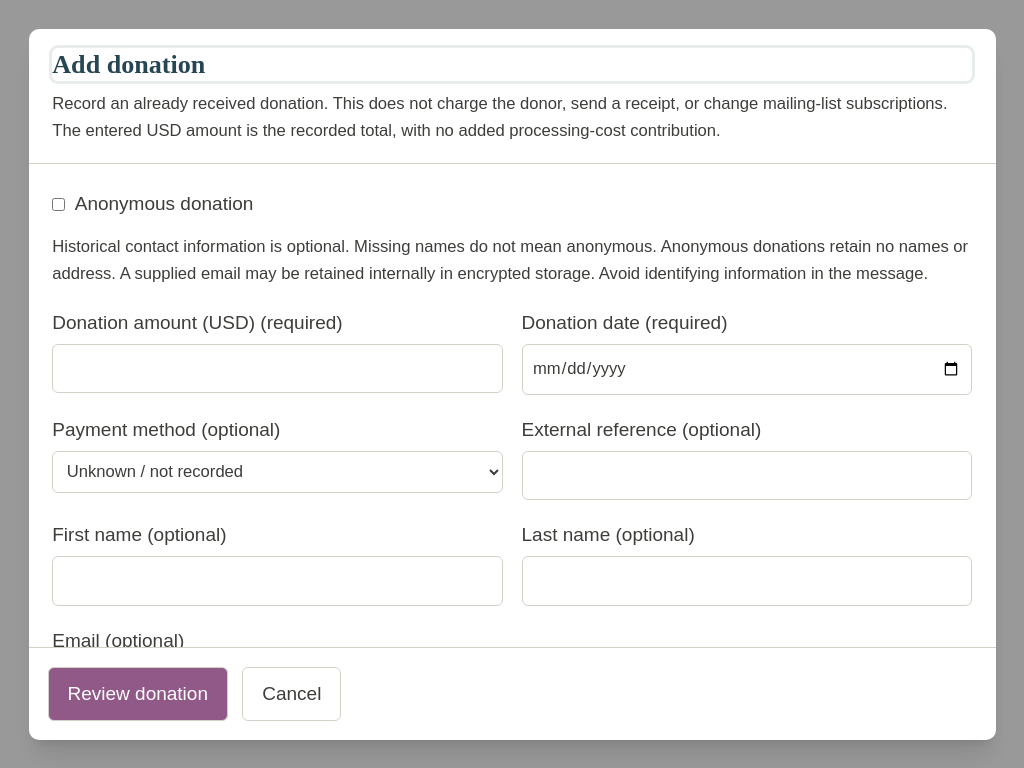
manual donation entry and review › reviews bank_transfer as a recorded method rather than an online charge
Type "35.00" into the field labelled "Donation amount (USD) (required)". click: (277, 368)
box: [52,344,503,393]
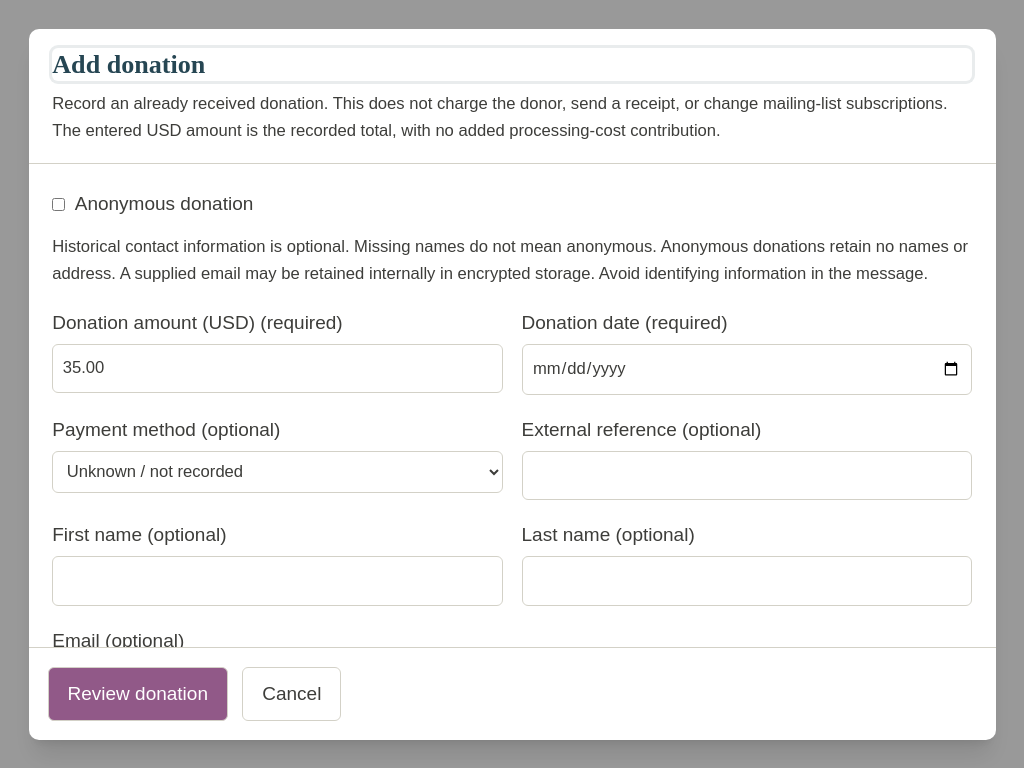
Type "1990-01-02" into the date field labelled "Donation date (required)". click: (747, 369)
box: [522,344,972,395]
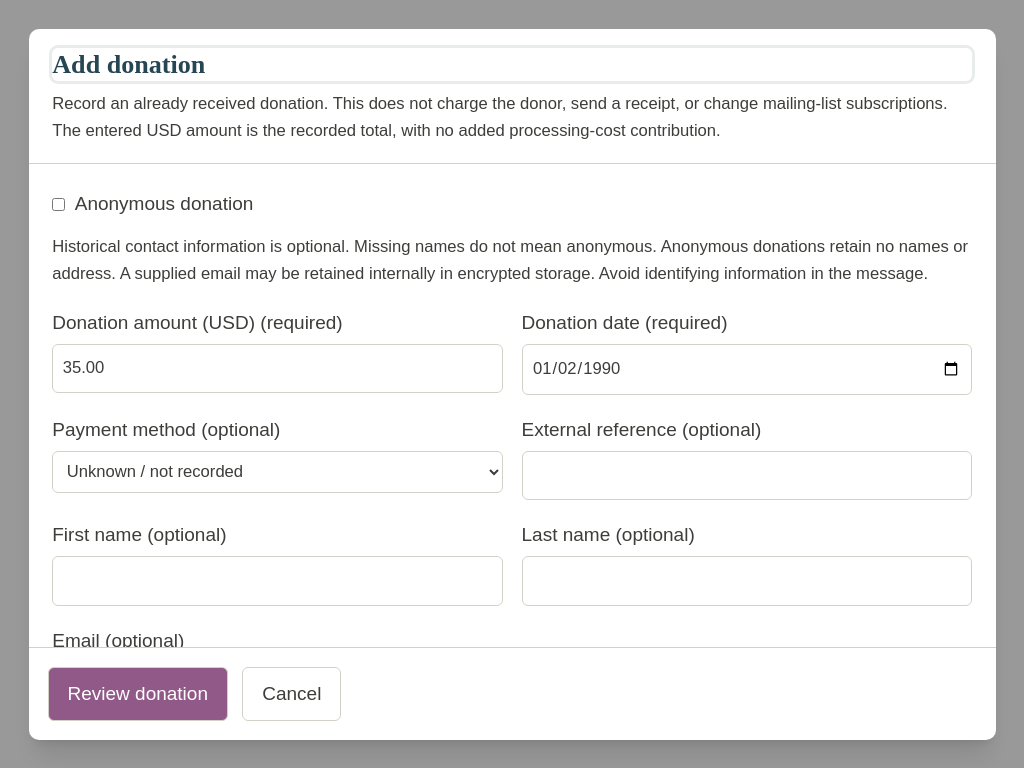
Select "Bank transfer" in the dropdown labelled "Payment method (optional)". click: (277, 472)
box: [52,451,503,493]
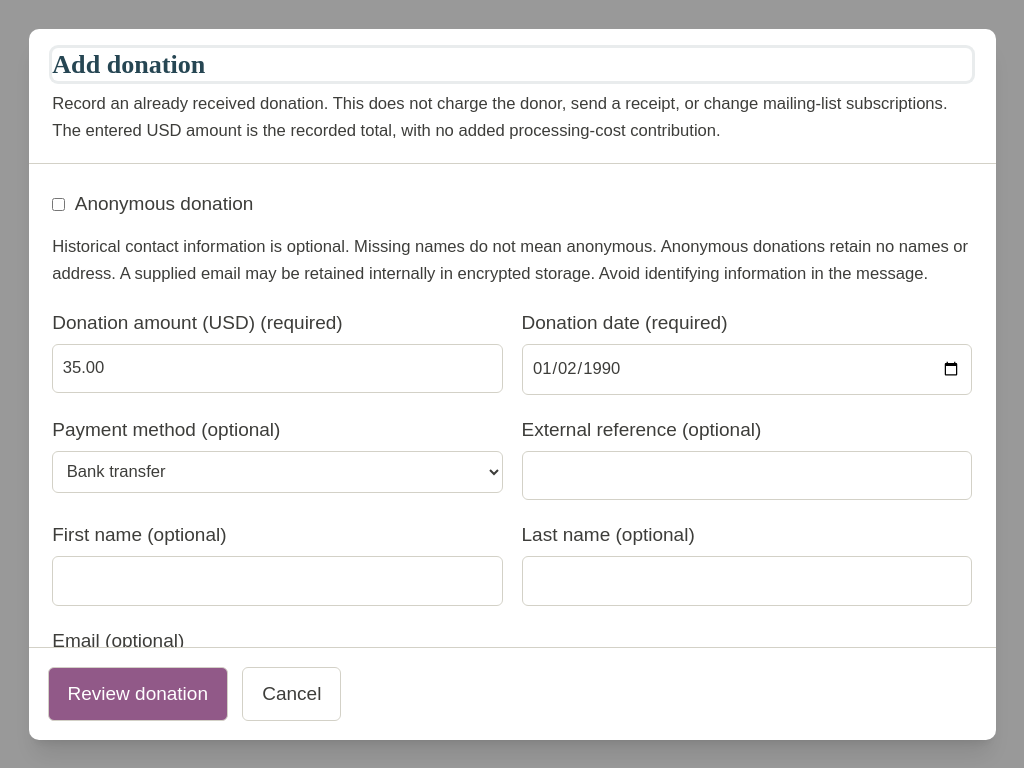
Click the button "Review donation". click: click(138, 694)
box: [48,667,228,720]
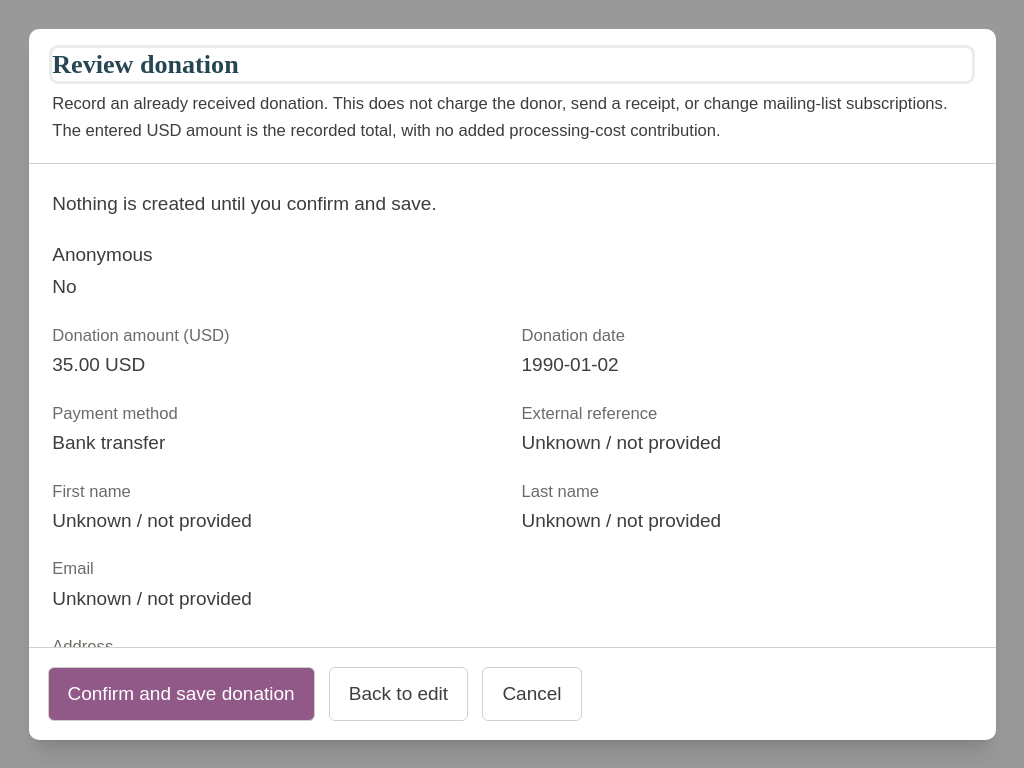
Now the text "Payment method" shows "Bank transfer", box [52,432,165,453]
